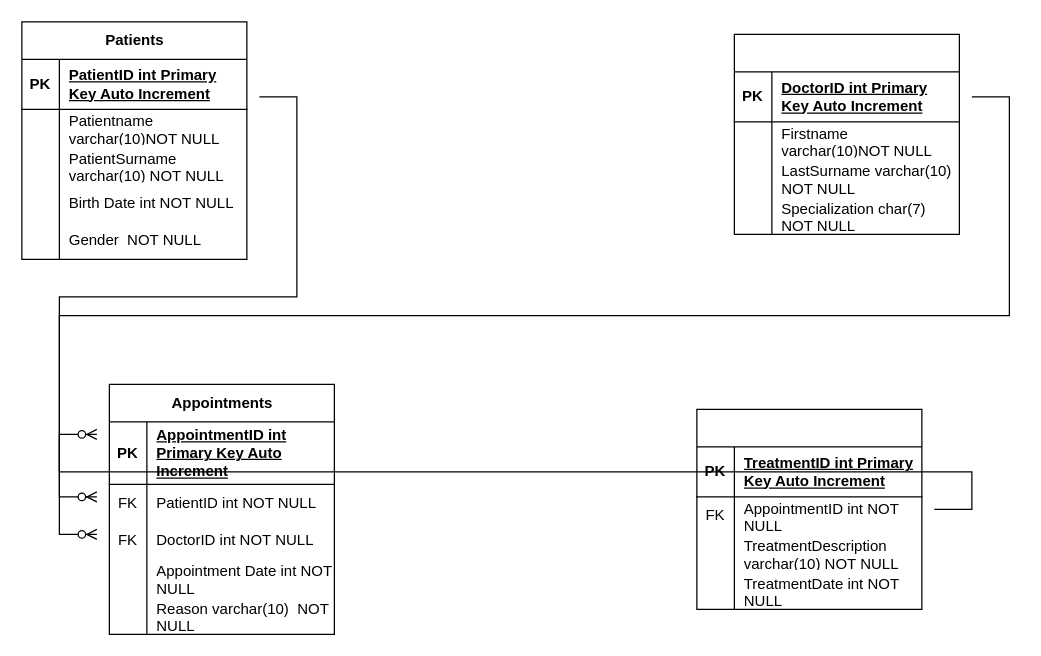
The diagram is 1041 pixels wide and 656 high, and some of its shapes have lost their labels. Each missing label, with the box of its shape:
Doctors: (733, 33, 959, 234)
Treatments: (696, 408, 922, 609)
